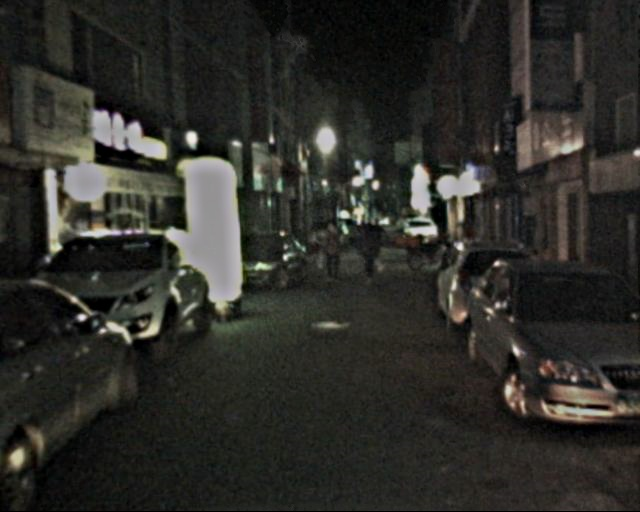person: (353, 216, 382, 286), (317, 216, 345, 284)
